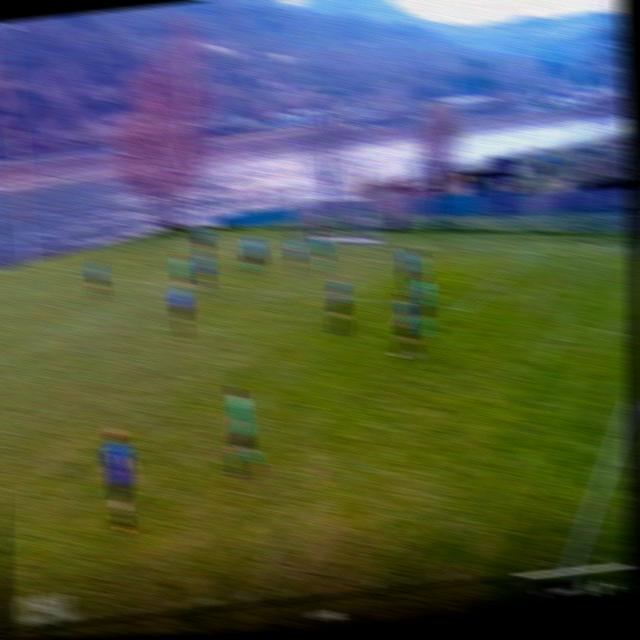bigarea_bottom_inner: (452, 296, 474, 323)
bigarea_bottom_outter: (522, 239, 546, 265)
bigarea_top_inner: (55, 263, 76, 282)
bigarea_top_outter: (174, 235, 192, 251)
bottom_arc_area_intersection: (270, 284, 290, 302)
smallarea_bottom_inner: (379, 254, 393, 265)
smallarea_bottom_outter: (403, 240, 418, 252)
smallarea_top_inner: (218, 246, 234, 261)
top_arc_area_intersection: (148, 274, 168, 288)
